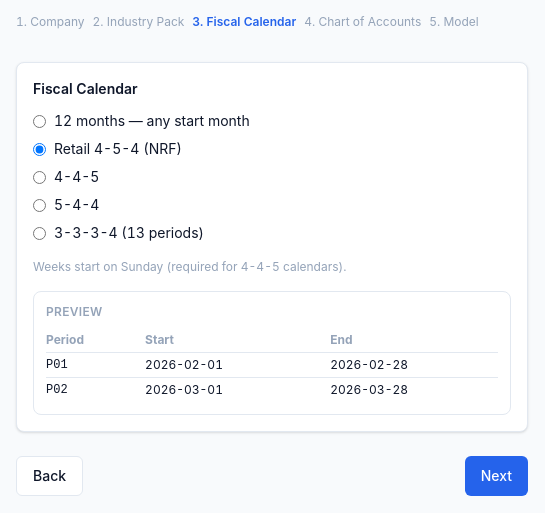
Test: S-002 wizard — resume-safe draft (S-002 loading state; TODO M1-8) › restores the in-progress draft (fields + step) on re-open
Expected: the heading "Fiscal Calendar" is shown, [33,79,138,99]
Expected: the radio button labelled "Retail 4-5-4 (NRF)" is checked, [33,142,46,156]
// Back to step 1: the restored name + type are there
Click the button "Back" at (50, 476), box [16,456,83,496]
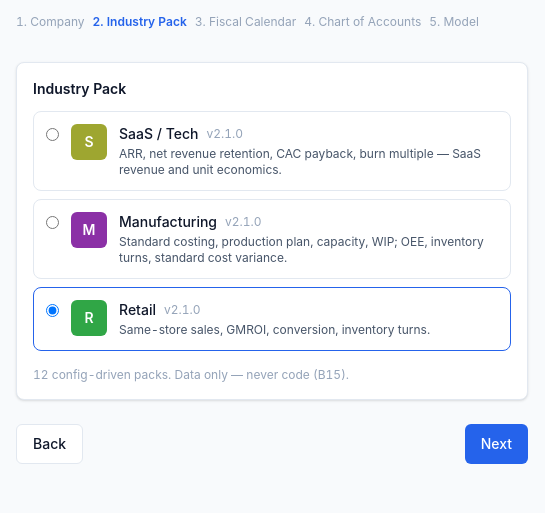
Click the button "Back" at (50, 444), box [16,424,83,464]
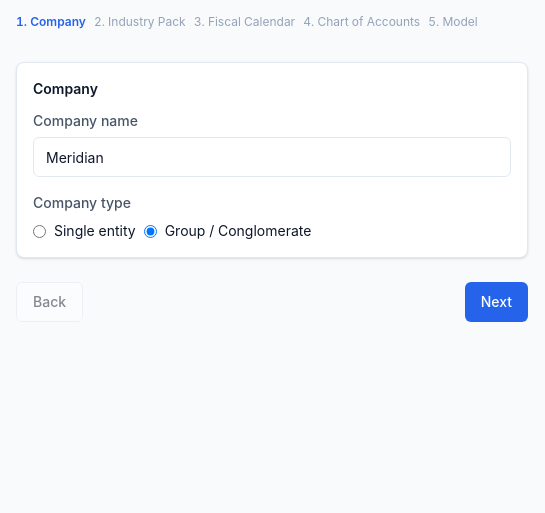
Expected: the field labelled "Company name" holds "Meridian", [33,137,511,177]
Expected: the radio button labelled "Group / Conglomerate" is checked, [144,224,157,238]
